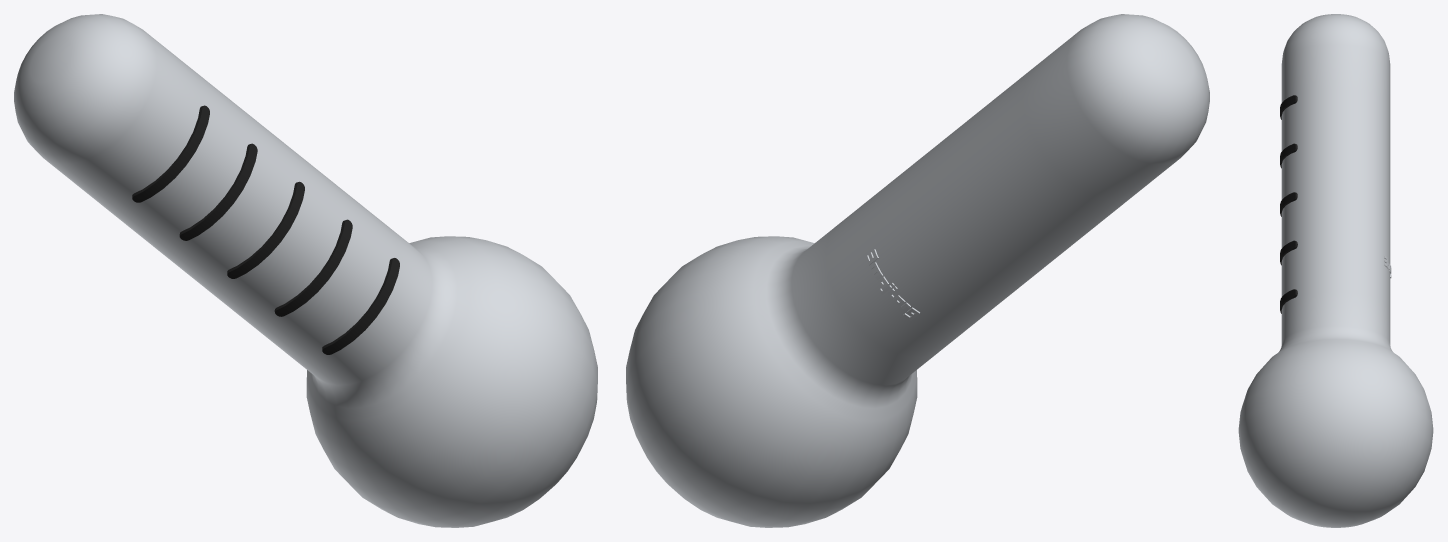
The model's file is thermometer.fbx.
The picture shows the model from 3 angles, left to right: view 1: azimuth 30°, elevation 25°; view 2: azimuth 150°, elevation 25°; view 3: azimuth 270°, elevation 25°; orthographic projection. The views are drawn at different scales.
Visible parts, largest first — view 1: Sphere.511; view 2: Sphere.511; view 3: Sphere.511.
Part boxes in pixels (left/top/right/bottom): Sphere.511: left=14, top=14, right=597, bottom=527; Sphere.511: left=626, top=14, right=1209, bottom=527; Sphere.511: left=1238, top=14, right=1433, bottom=527.
Size of the model in its own units: 218 by 218 by 100.
Materials: 2 (1 with a texture image).
